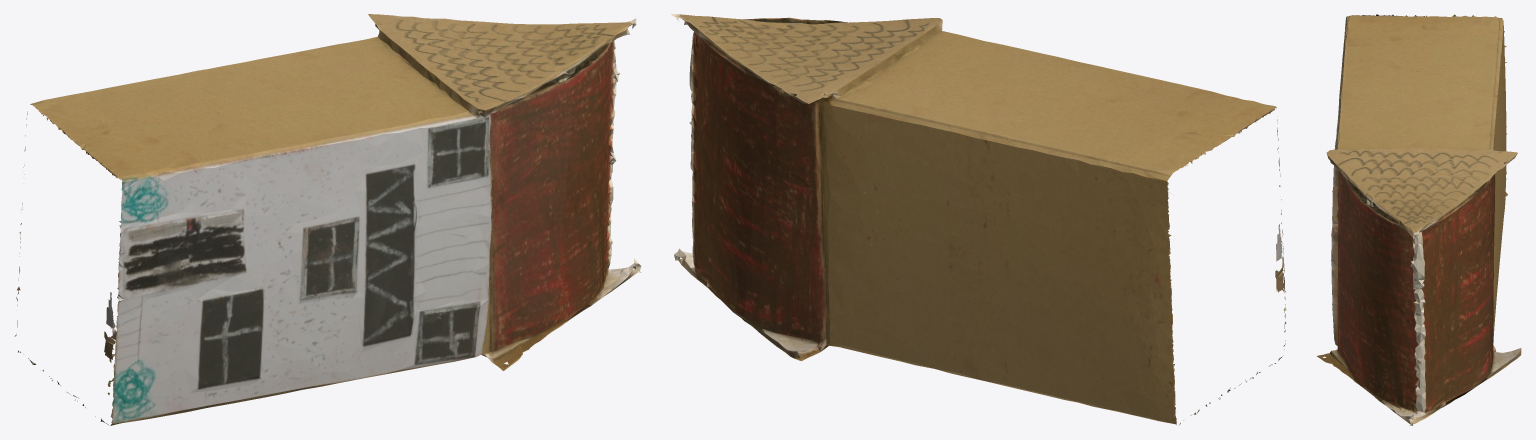
File: m5_5K_1024tex.glb
3 views of the same model, side by side, from view 1: azimuth 30°, elevation 25°; view 2: azimuth 150°, elevation 25°; view 3: azimuth 270°, elevation 25° (orthographic). The views are drawn at different scales.
Bounding box in the file's own units: 20.23 × 9.09 × 8.14.
Materials: 1 (1 with a texture image).
